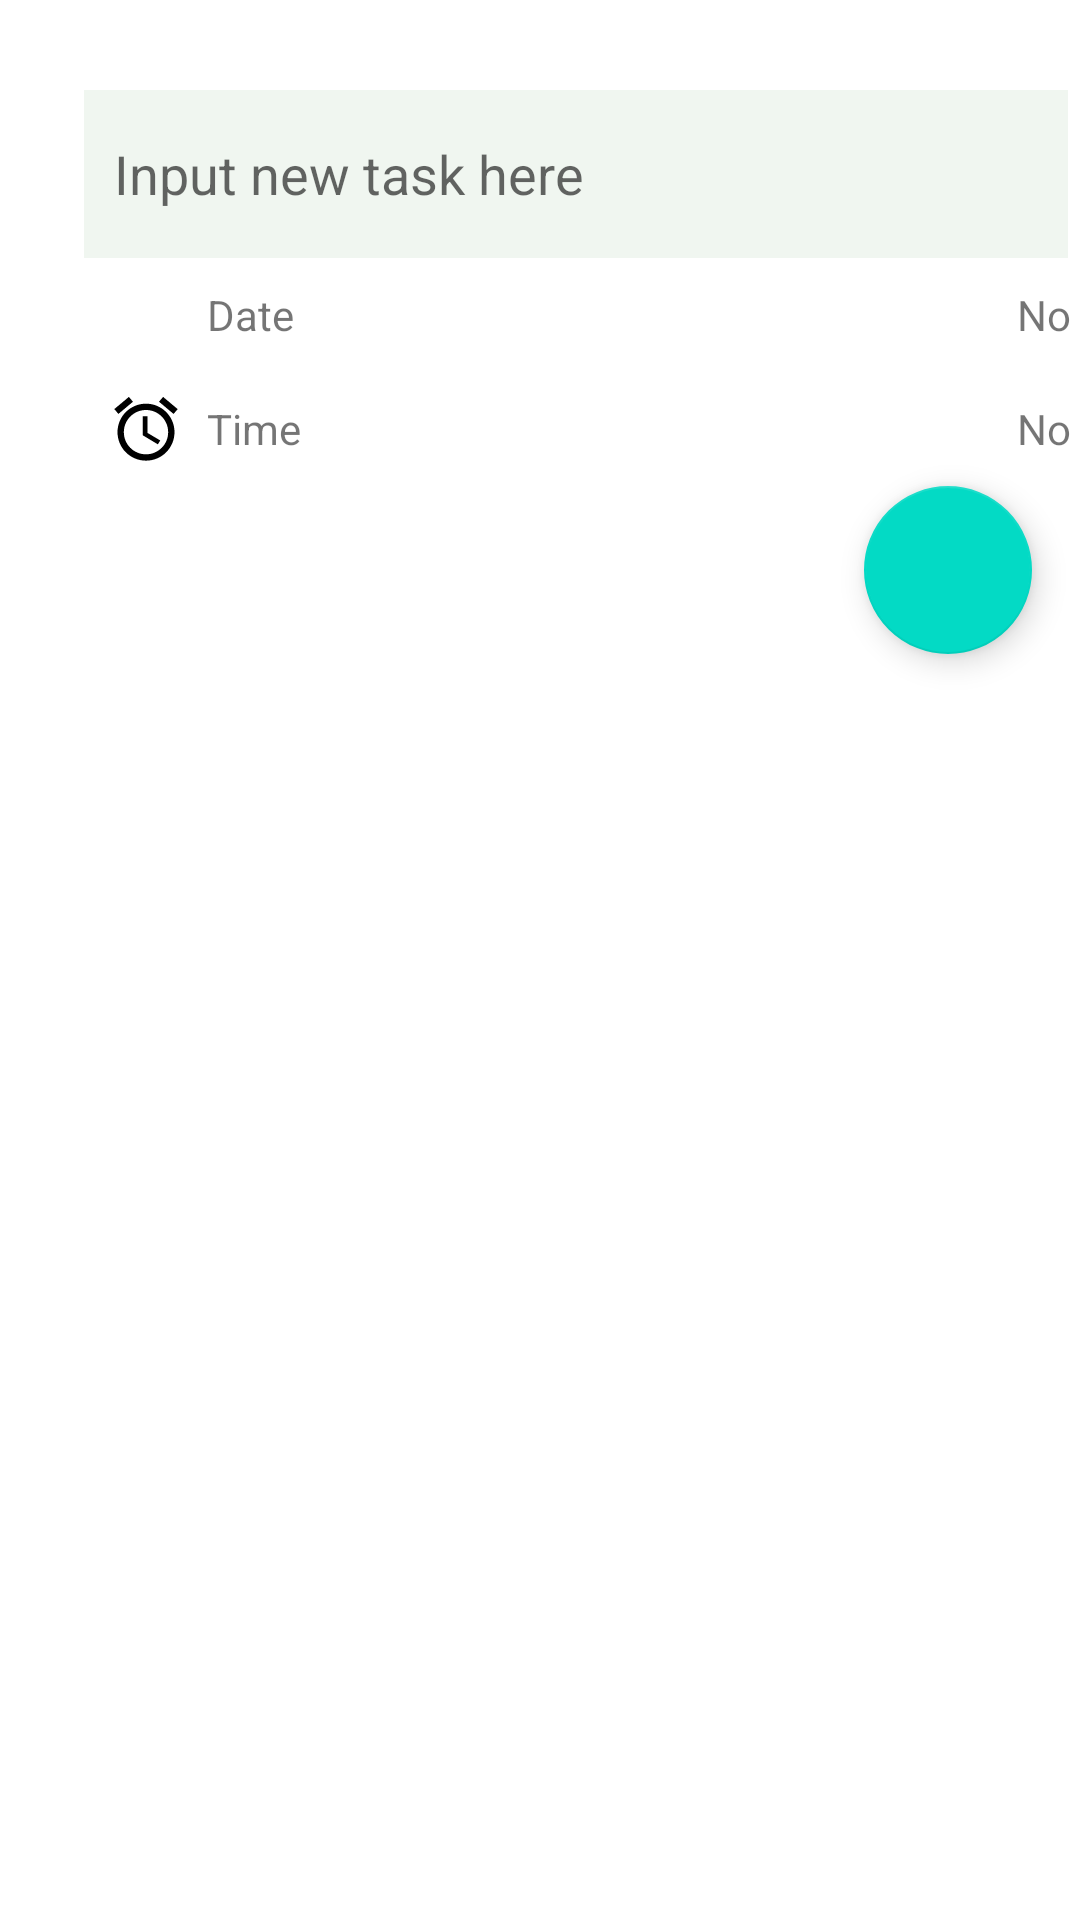

Icons on this 1080x1920 Android screen, each with its box as bbox=(x1, y1, x2, y2):
clock: bbox=(114, 397, 178, 461)
